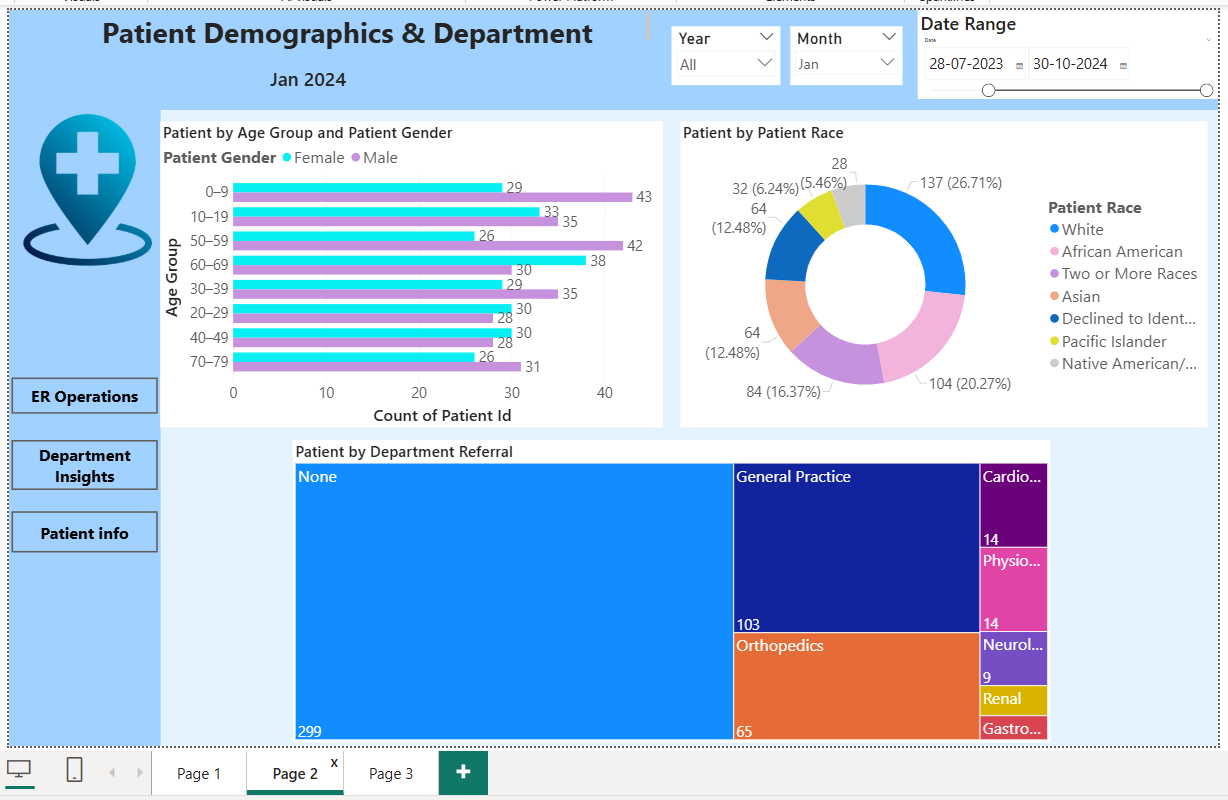

This screenshot's page, from the dashboard's own definition file:
{"tool":"powerbi","page":{"name":"Page 2","canvas":[2300,1400],"ordinal":1},"visuals":[{"type":"shape","box":[0,0,288.5,1400],"z":0},{"type":"shape","box":[287.7,0,2013.9,190.2],"z":1000},{"type":"textbox","box":[171.2,0,1053.3,95.1],"z":2000},{"type":"slicer","fields":{"Values":["Date table.Month"]},"box":[1486.1,30.9,214,111.8],"z":3000},{"type":"slicer","fields":{"Values":["Date table.Year"]},"box":[1260.2,30.9,206.9,111.8],"z":4000},{"type":"slicer","title":"Date Range","fields":{"Values":["Date table.Date"]},"box":[1728.6,0,570.7,168.8],"z":7000},{"type":"card","fields":{"Values":["Min(Date table.Month & Year)"]},"box":[368.5,85.6,401.8,90.4],"z":8000},{"type":"image","box":[0,192.6,299.6,299.6],"z":9000},{"type":"clusteredBarChart","title":"Patient by Age Group and Patient Gender","fields":{"Y":["CountNonNull(Hospital ER_Data.Patient Id)"],"Series":["Hospital ER_Data.Patient Gender"],"Category":["Hospital ER_Data.Age Group"]},"box":[287.7,211.6,955.8,582.5],"z":10000},{"type":"donutChart","title":"Patient by Patient Race","fields":{"Category":["Hospital ER_Data.Patient Race"],"Y":["CountNonNull(Hospital ER_Data.Patient Id)"]},"box":[1276.8,211.6,1003.4,582.5],"z":11000},{"type":"treemap","title":"Patient by Department Referral","fields":{"Values":["CountNonNull(Hospital ER_Data.Patient Id)"],"Group":["Hospital ER_Data.Department Referral"]},"box":[539.7,817.9,1440.9,575.4],"z":12000},{"type":"actionButton","box":[4.8,699.1,278.2,69],"z":12001},{"type":"actionButton","box":[4.8,817.9,278.2,95.1],"z":12002},{"type":"actionButton","box":[4.8,953.5,278.2,78.5],"z":12003}]}

Visuals, with their boxes on the page's 2300x1400 design canvas (x1, y1, x2, y2). These are canvas units, not pixel positions in the 1228x800 screenshot, which may show the page scaled, cropped or inside an application window:
shape: x1=0 y1=0 x2=288 y2=1400
shape: x1=288 y1=0 x2=2302 y2=190
textbox: x1=171 y1=0 x2=1224 y2=95
slicer - Date table.Month: x1=1486 y1=31 x2=1700 y2=143
slicer - Date table.Year: x1=1260 y1=31 x2=1467 y2=143
"Date Range" slicer: x1=1729 y1=0 x2=2299 y2=169
card - Min(Date table.Month & Year): x1=368 y1=86 x2=770 y2=176
image: x1=0 y1=193 x2=300 y2=492
"Patient by Age Group and Patient Gender" clusteredBarChart: x1=288 y1=212 x2=1244 y2=794
"Patient by Patient Race" donutChart: x1=1277 y1=212 x2=2280 y2=794
"Patient by Department Referral" treemap: x1=540 y1=818 x2=1981 y2=1393
actionButton: x1=5 y1=699 x2=283 y2=768
actionButton: x1=5 y1=818 x2=283 y2=913
actionButton: x1=5 y1=954 x2=283 y2=1032
